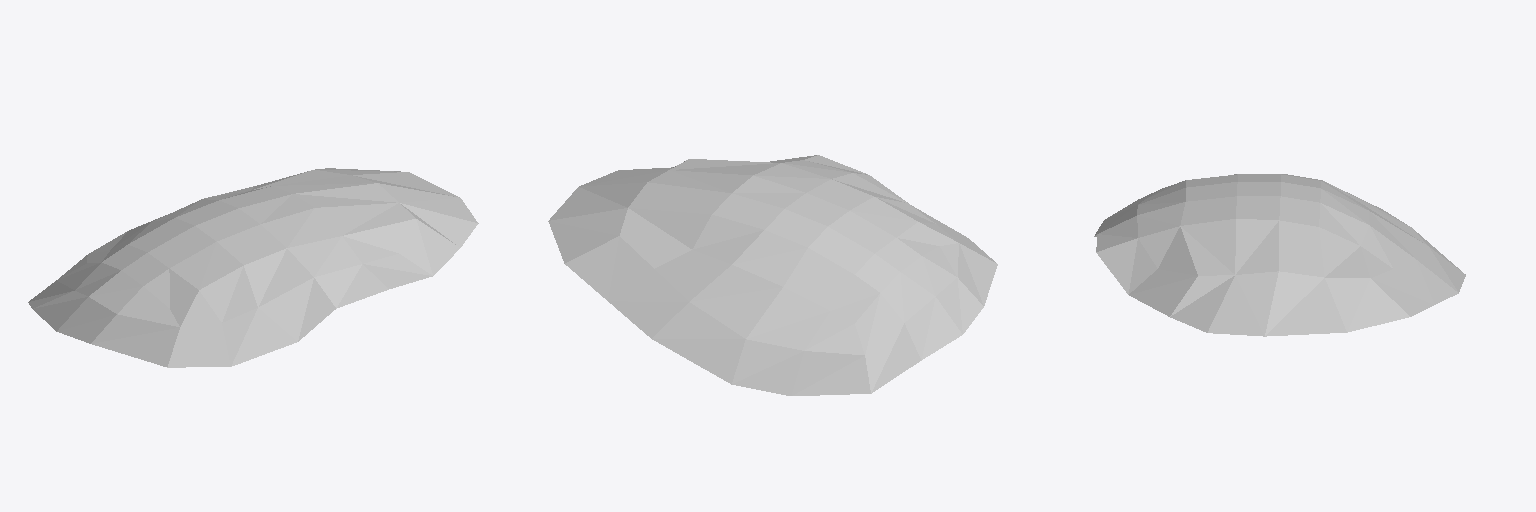
The model's file is Tree Top Large 3.obj.
The picture shows the model from 3 angles: view 1: azimuth 30°, elevation 25°; view 2: azimuth 150°, elevation 25°; view 3: azimuth 270°, elevation 25°; orthographic projection.
Bounding box in the file's own units: 2462 × 660 × 2013.